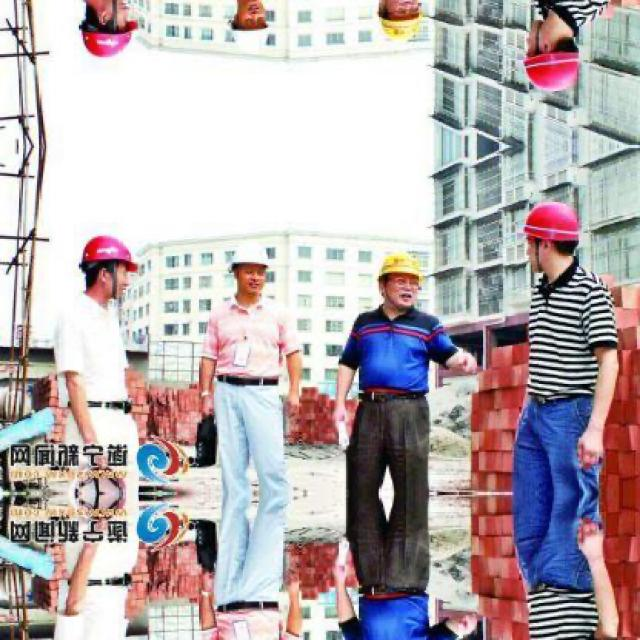helmet: (514, 191, 597, 284), (514, 9, 597, 102), (76, 230, 146, 302), (74, 0, 146, 65), (369, 245, 429, 318), (370, 0, 431, 49), (228, 239, 277, 298), (226, 0, 277, 56)
